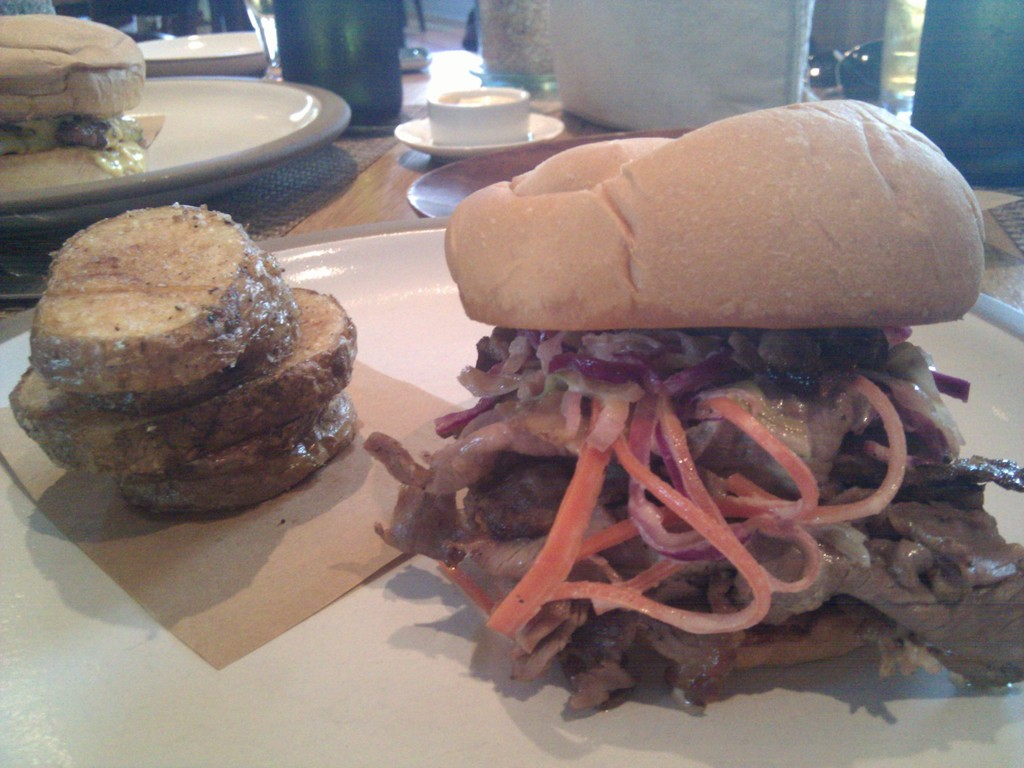Hamburger: (364, 100, 1023, 705)
